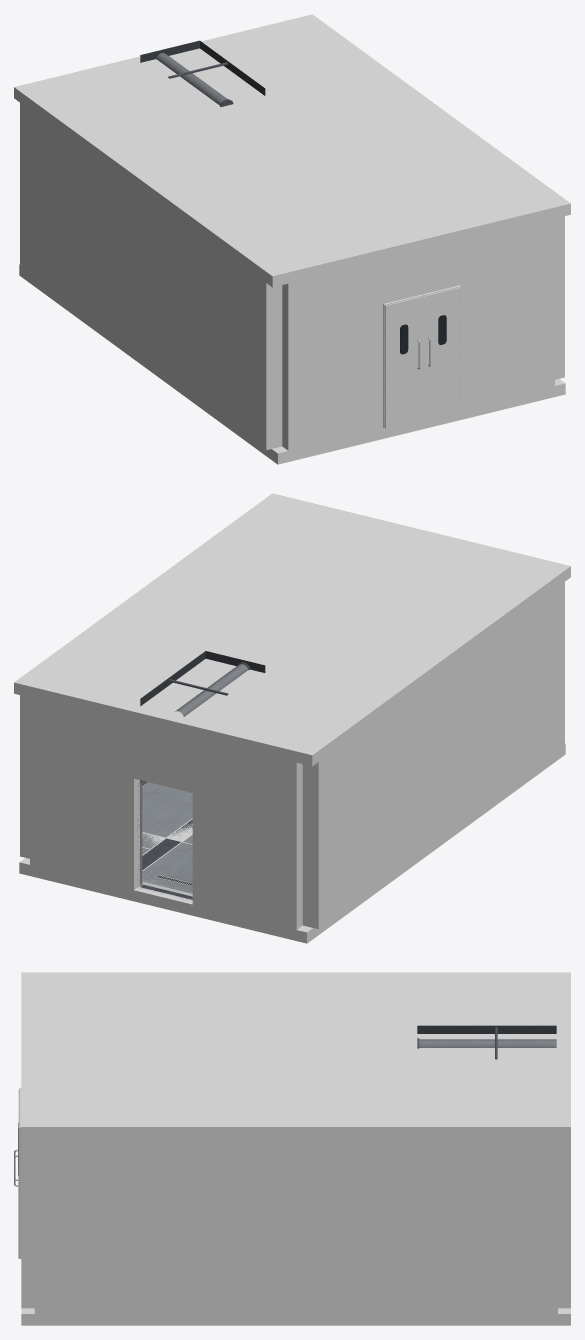
File: int_prepbay.glb
3 renders of one model, top to bottom at view 1: azimuth 30°, elevation 25°; view 2: azimuth 150°, elevation 25°; view 3: azimuth 270°, elevation 25°, orthographic. The views are drawn at different scales.
Visible parts, largest first — view 1: col_walls_prepbay, col_door_bay, col_floor_prepbay, shell_prepbay, door_bay_L_far; view 2: col_walls_prepbay, shell_prepbay, col_floor_prepbay; view 3: col_walls_prepbay, col_floor_prepbay, shell_prepbay, door_bay_R_far.
Part boxes in pixels (x1,y1,x2,y2): col_walls_prepbay: [14, 14, 570, 450]; col_door_bay: [385, 287, 460, 428]; col_floor_prepbay: [19, 264, 565, 464]; shell_prepbay: [140, 40, 265, 106]; door_bay_L_far: [383, 294, 422, 427]; col_walls_prepbay: [14, 493, 570, 929]; shell_prepbay: [137, 651, 265, 900]; col_floor_prepbay: [19, 743, 565, 943]; col_walls_prepbay: [21, 972, 570, 1316]; col_floor_prepbay: [21, 1308, 570, 1325]; shell_prepbay: [417, 1025, 556, 1059]; door_bay_R_far: [14, 1107, 21, 1258].
Bounding box in the file's own units: 5.6 × 3.54 × 8.51.
Materials: 17 (14 with a texture image).
